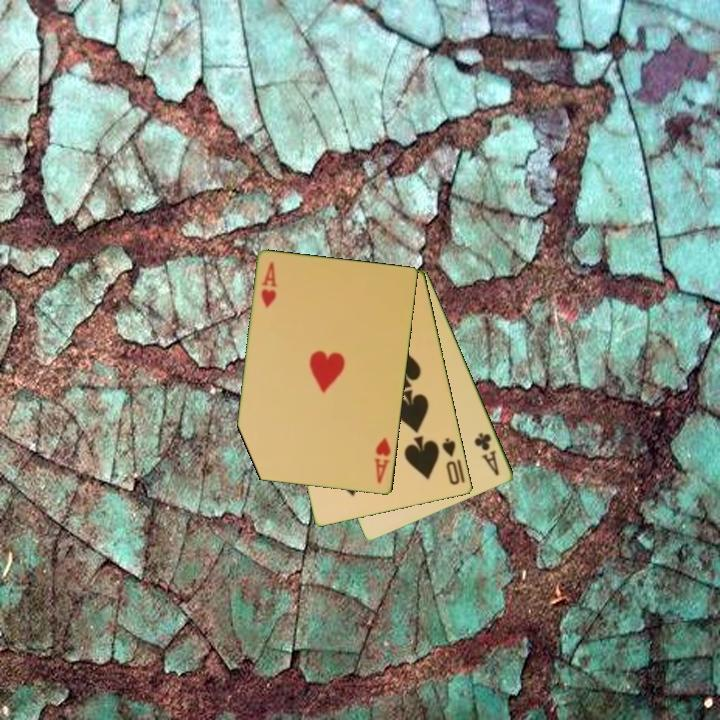10s: (439, 434, 463, 488)
Ac: (471, 429, 502, 479)
Ah: (371, 434, 394, 487), (258, 258, 280, 311)
